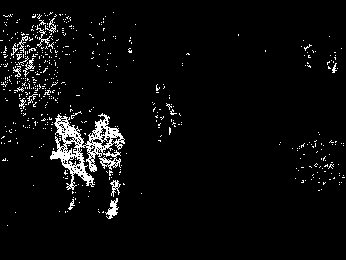person: (49, 118, 96, 210), (87, 114, 126, 219), (151, 82, 182, 141)
